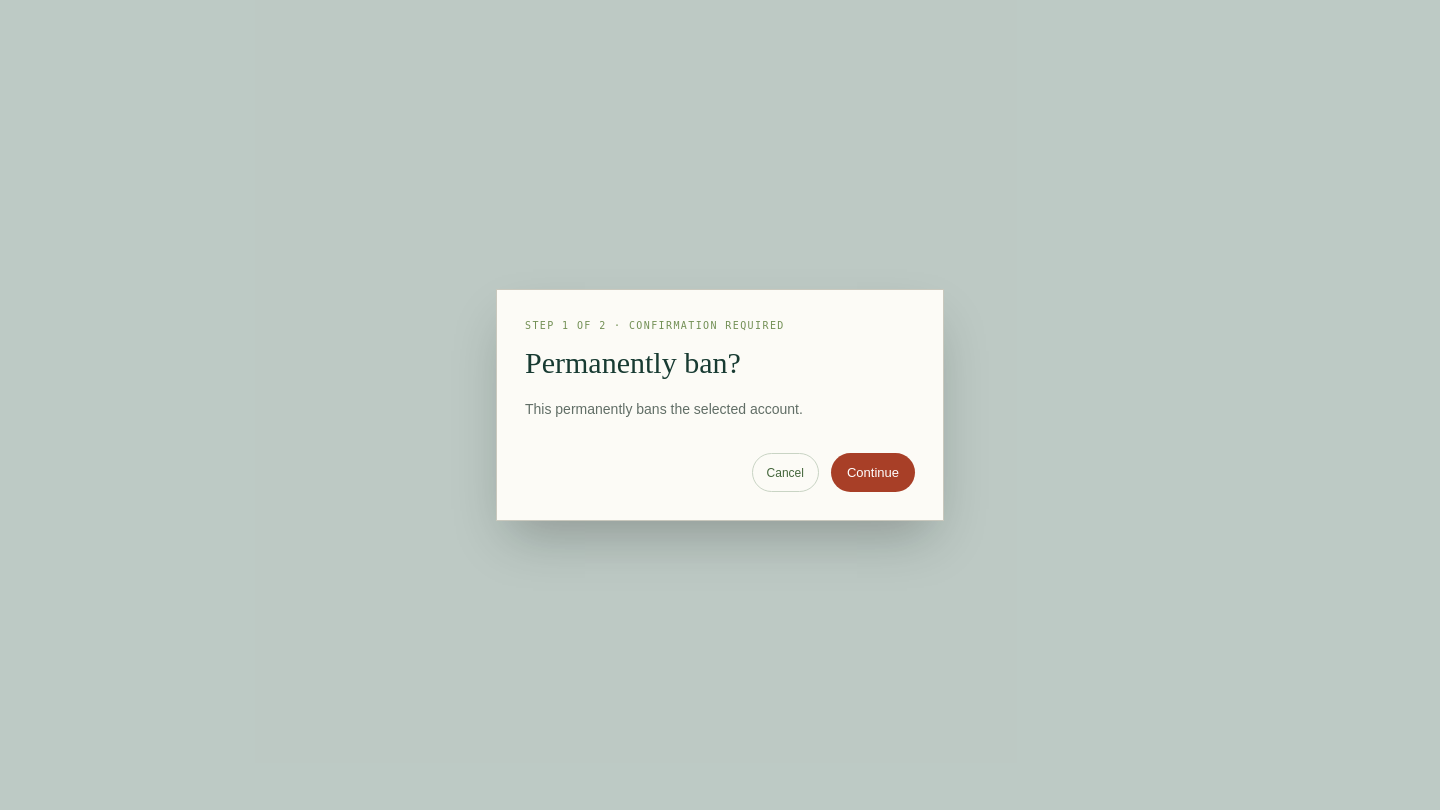
Test: ConfirmDialog (Ch5 §3.4.6 two-step confirmation) › requires two clicks before confirming
The width and height of the screenshot is (1440, 810).
Later steps or results of the test are not shown.
Check: the dialog "Permanently ban?" is shown, box left=496, top=289, right=944, bottom=521
Click the button "Continue".
click(873, 473)  # box left=831, top=453, right=915, bottom=492
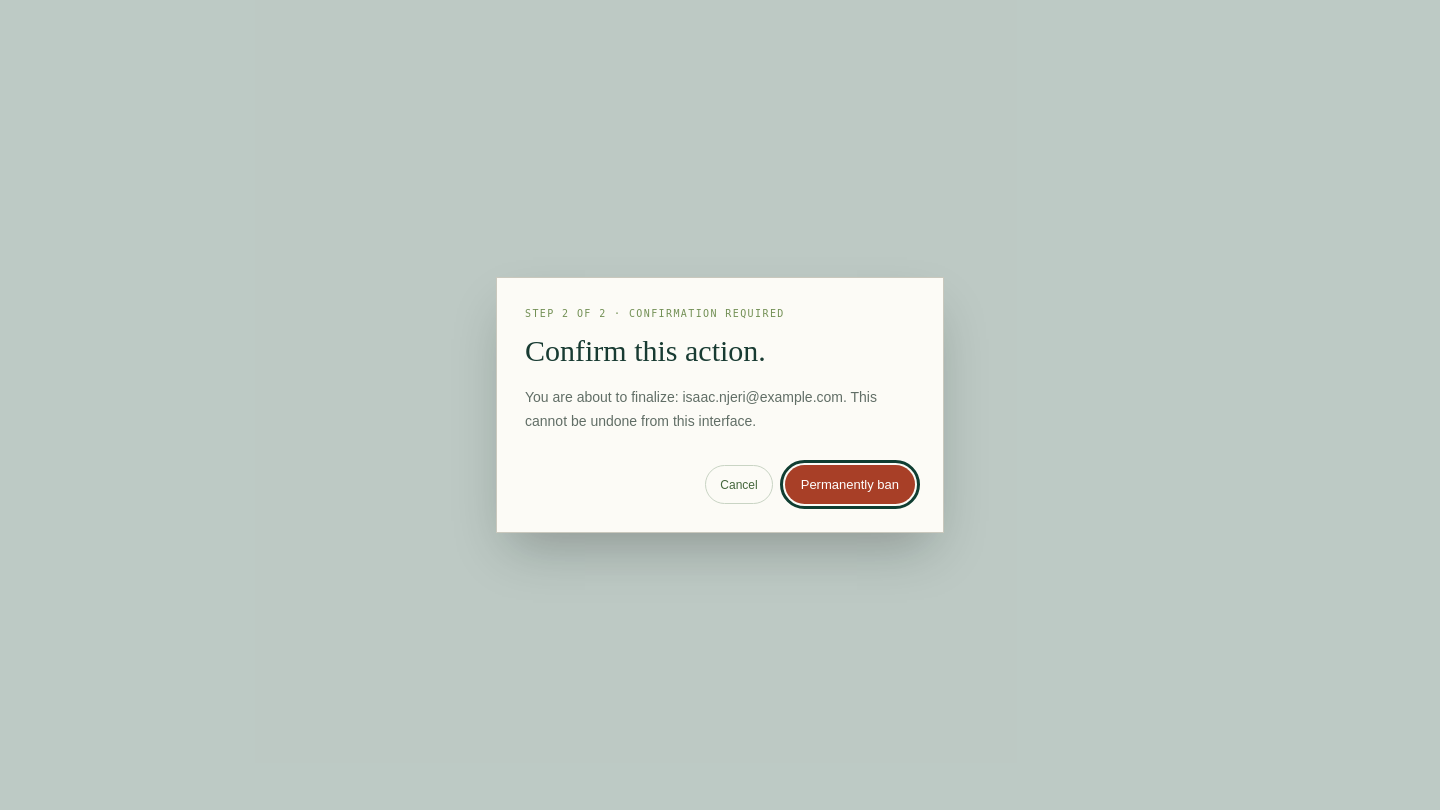
Check: the text "You are about to finalize" is shown, box left=525, top=389, right=877, bottom=429
